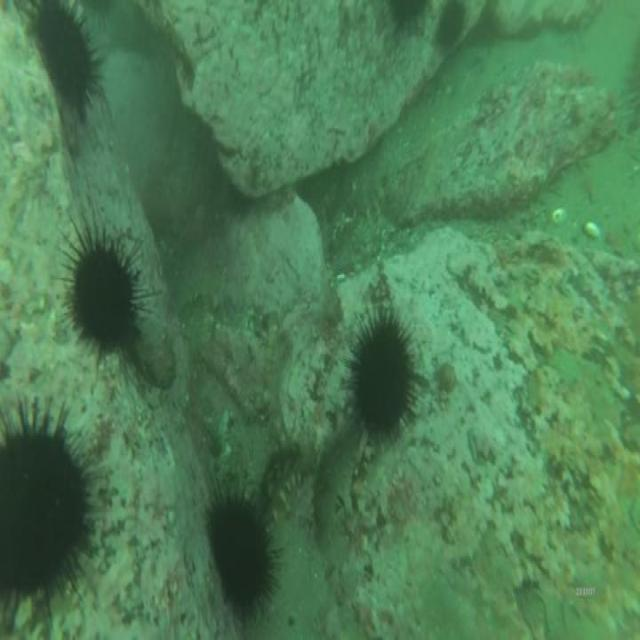echinus: (1, 393, 107, 637), (47, 194, 165, 380), (201, 468, 283, 640), (339, 306, 426, 460), (20, 1, 114, 136), (386, 0, 432, 43), (433, 3, 467, 55)
holothurian: (260, 426, 326, 511)
